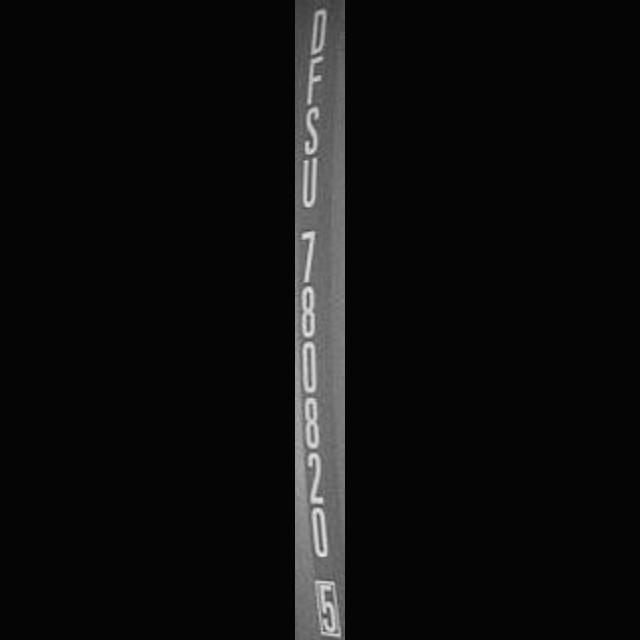0: (295, 340, 327, 396), (304, 506, 336, 560)
2: (299, 451, 331, 501)
5: (311, 576, 345, 640)
7: (295, 220, 323, 286)
8: (295, 393, 327, 449), (295, 286, 327, 340)
d: (298, 0, 339, 58)
f: (295, 49, 333, 107)
s: (298, 102, 332, 164)
u: (296, 154, 326, 212)
